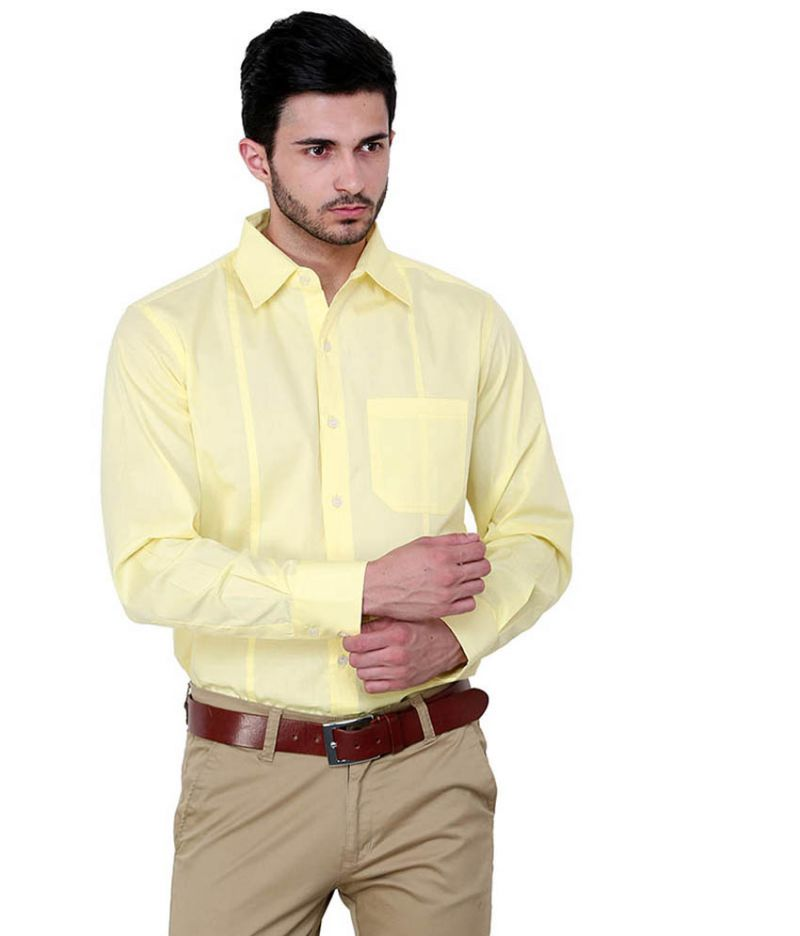Shirt: (93, 245, 584, 699)
